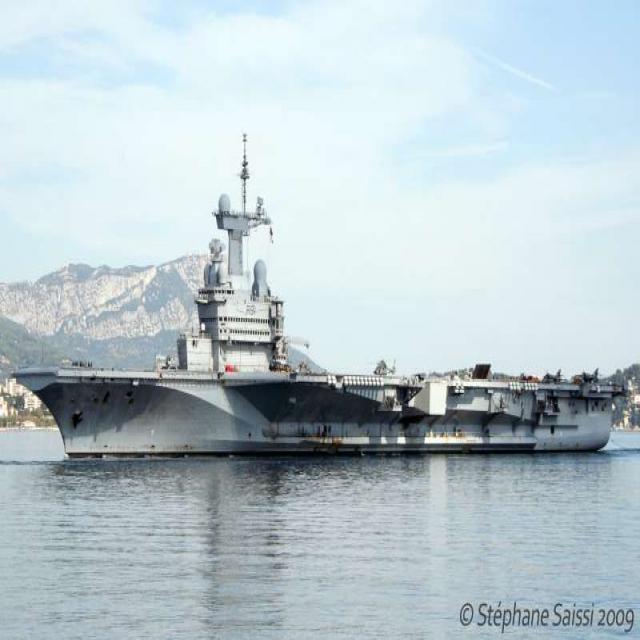Portanaves: (8, 124, 631, 457)
